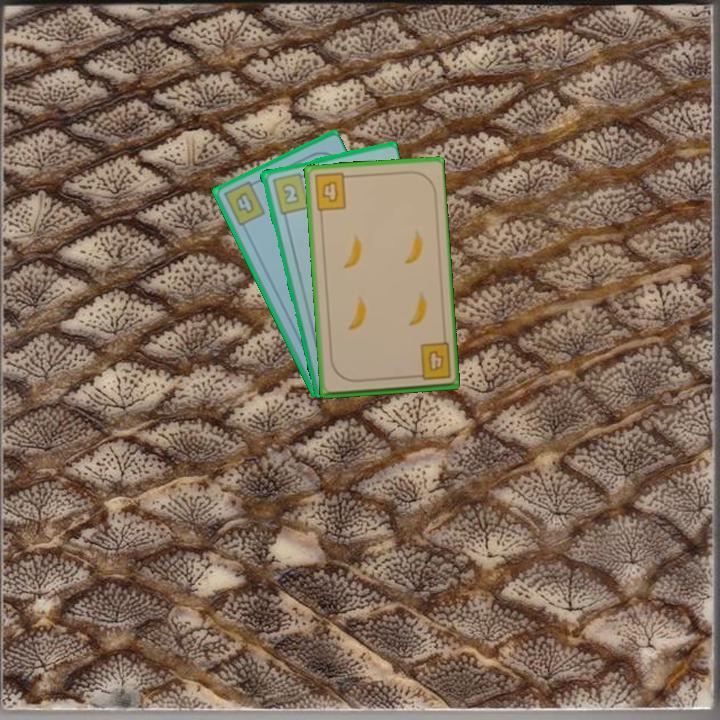2b: (268, 169, 311, 217)
4b: (220, 177, 268, 229), (409, 340, 453, 383), (311, 170, 353, 213)
